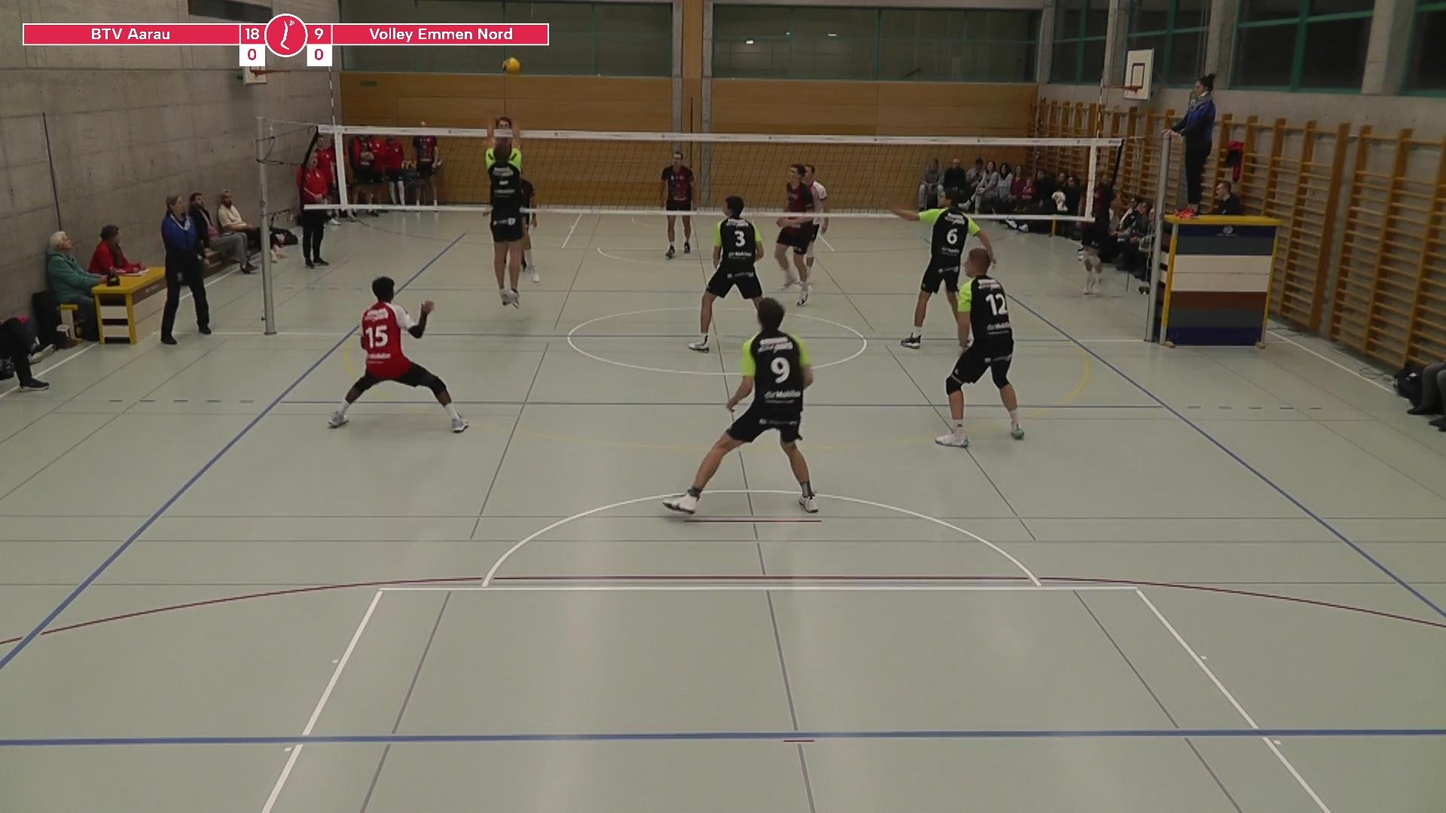muro: (478, 112, 540, 308)
